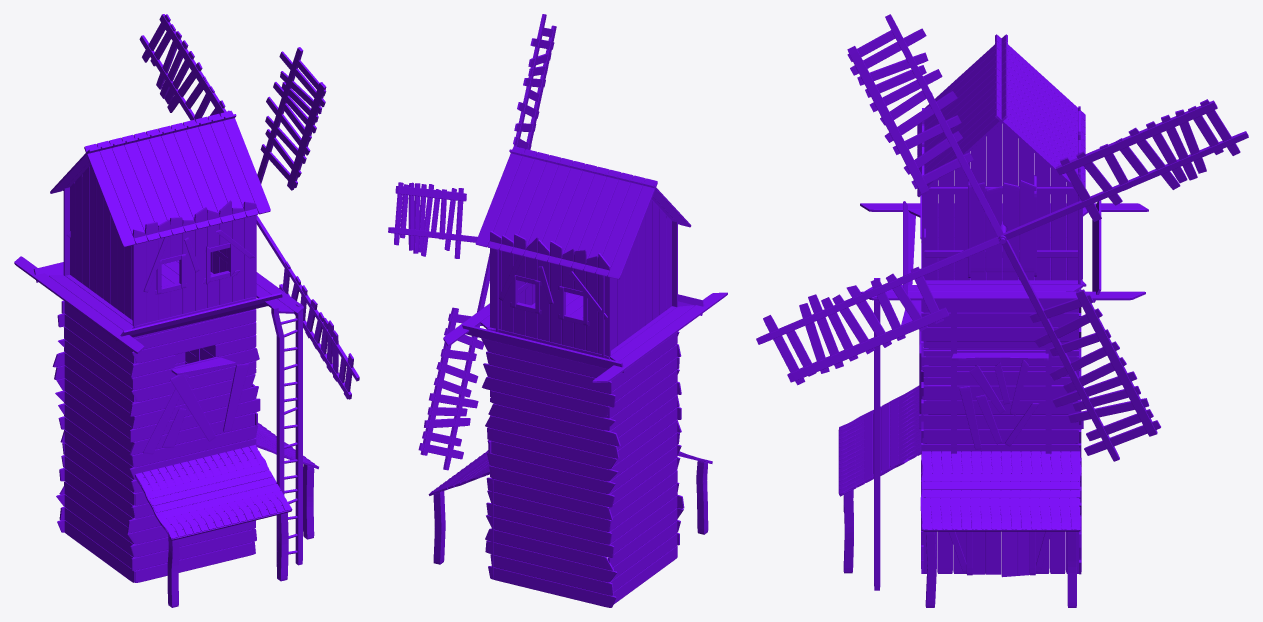
The model's file is degirmen.fbx.
3 views of the same model, side by side, from view 1: azimuth 30°, elevation 25°; view 2: azimuth 150°, elevation 25°; view 3: azimuth 270°, elevation 25° (orthographic). The views are drawn at different scales.
Visible parts, largest first — view 1: degirmen; view 2: degirmen; view 3: degirmen.
Part boxes in pixels (<box>): degirmen: <box>14,14,359,607</box>; degirmen: <box>388,14,727,607</box>; degirmen: <box>756,14,1248,607</box>.
Bounding box in the file's own units: 1740 × 4043 × 3124.
